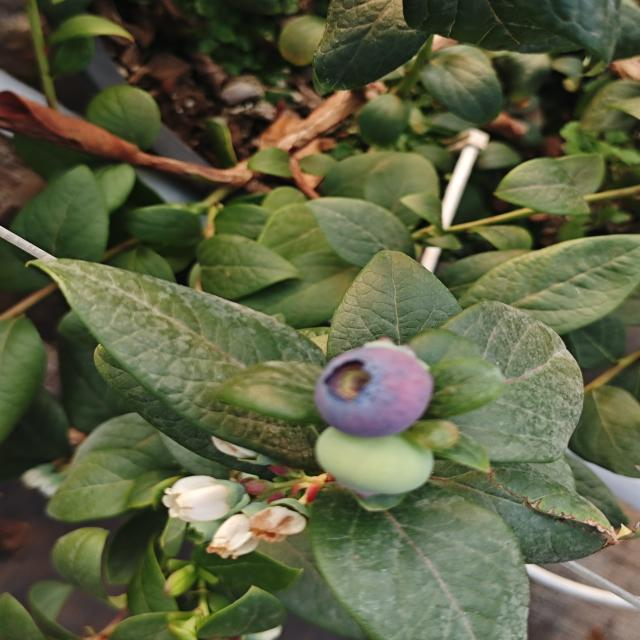ripe: (317, 328, 435, 438)
